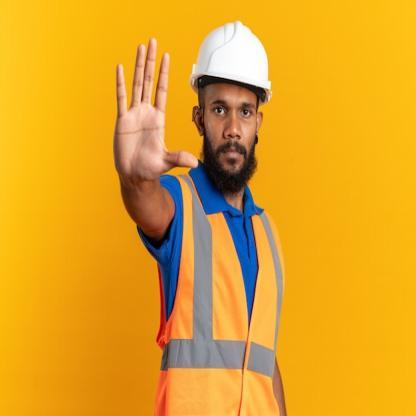stop: (110, 29, 202, 184)
